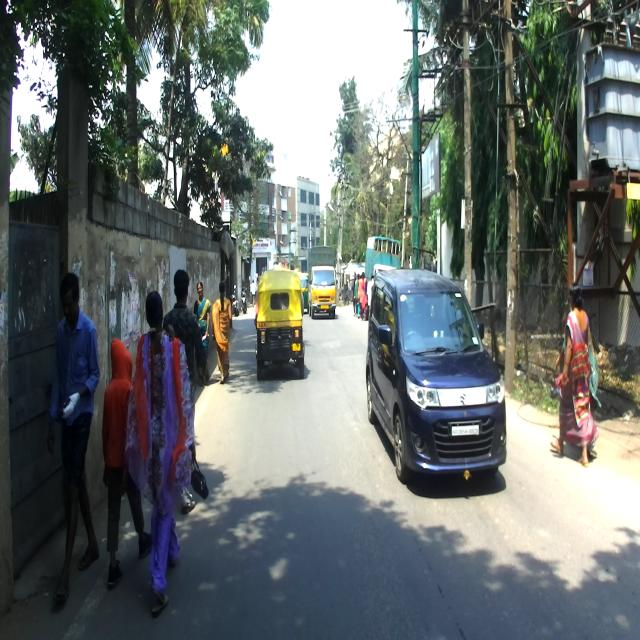auto ahead at: (256, 269, 304, 381)
car ahead at: (366, 269, 510, 486)
person ahead at: (132, 283, 188, 622), (47, 273, 100, 605), (554, 285, 601, 467)
